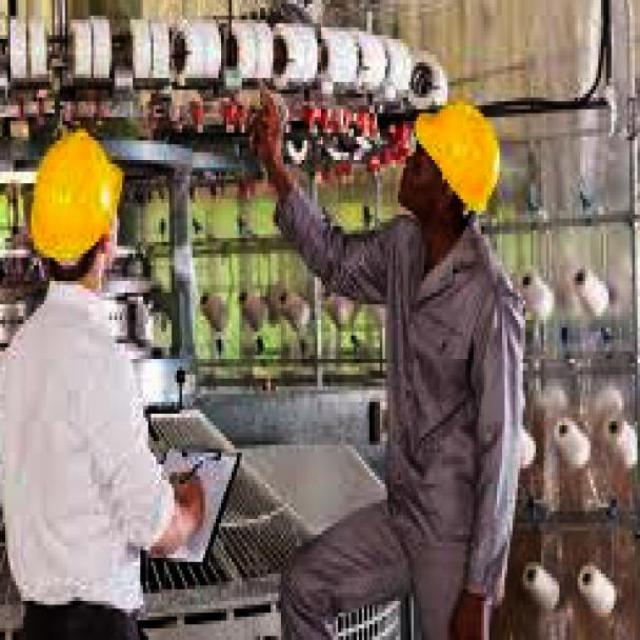helmet: (11, 129, 143, 305), (388, 78, 505, 238)
